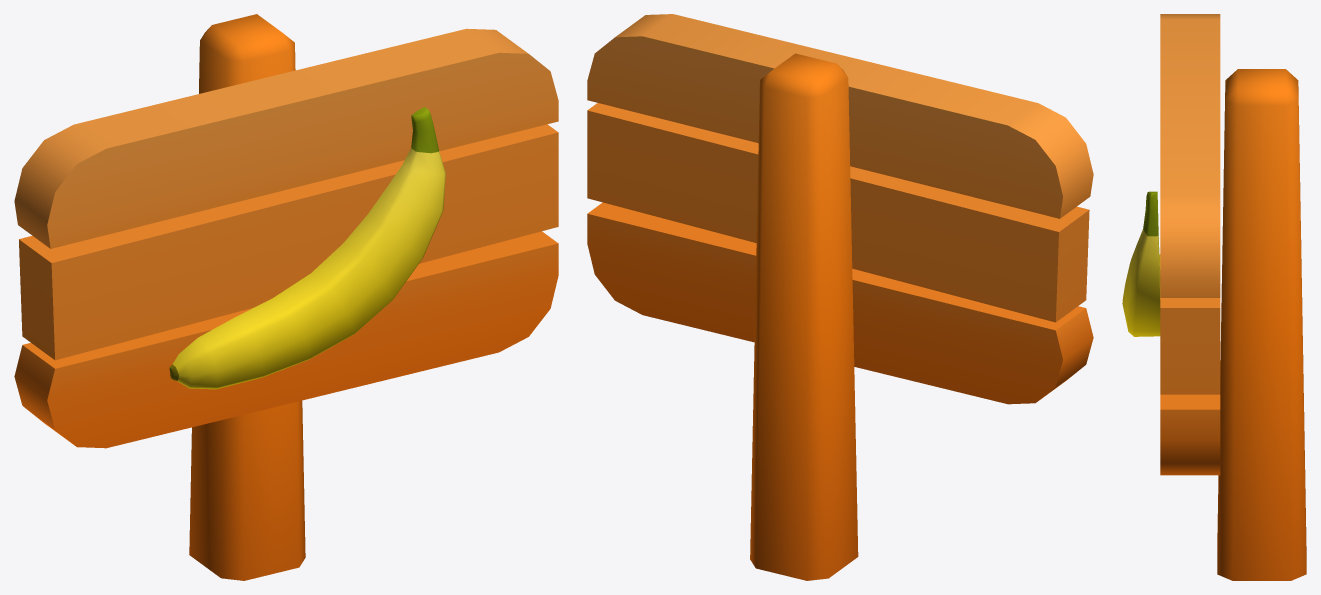
Rendered from Farm_Crop_Sign_Banana_01.fbx.
The picture shows the model from 3 angles, left to right: view 1: azimuth 30°, elevation 25°; view 2: azimuth 150°, elevation 25°; view 3: azimuth 270°, elevation 25°; orthographic projection. The views are drawn at different scales.
Parts seen in each view (by area): view 1: Farm_Crop_Sign_Banana_01; view 2: Farm_Crop_Sign_Banana_01; view 3: Farm_Crop_Sign_Banana_01.
Boxes of the visible parts, x1,y1,x2,y2 form: Farm_Crop_Sign_Banana_01: (14, 14, 558, 580); Farm_Crop_Sign_Banana_01: (587, 14, 1093, 580); Farm_Crop_Sign_Banana_01: (1122, 14, 1306, 580).
Bounding box in the file's own units: 90.11 × 88.8 × 30.67.
